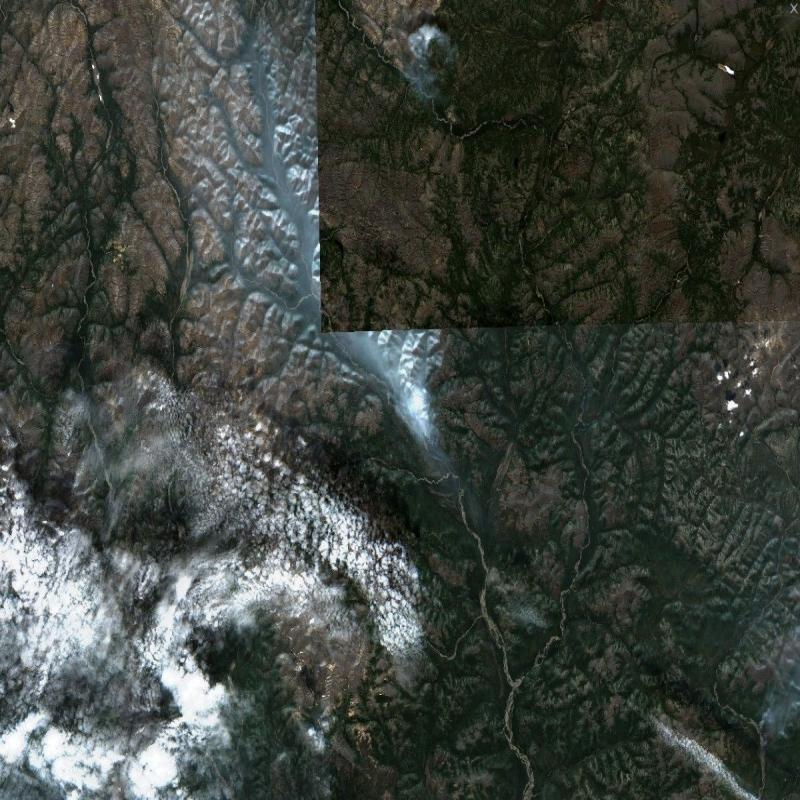fire: (406, 389, 444, 454)
